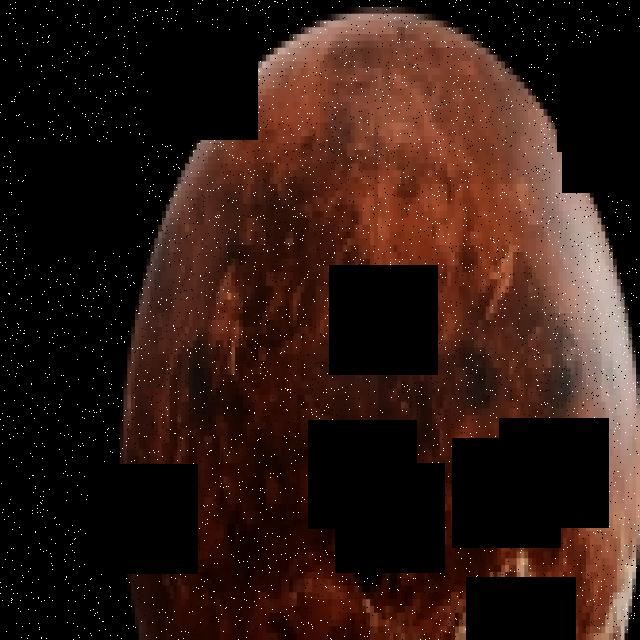Venus: (119, 7, 640, 640)
